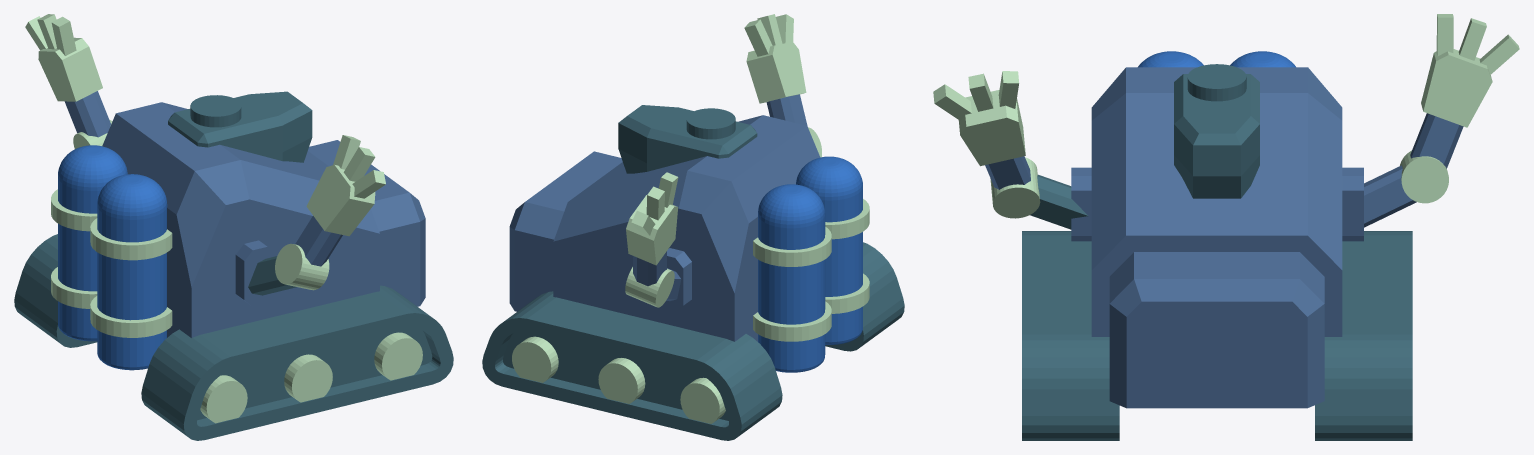
The model's file is worker.glb.
3 views of the same model, side by side, from view 1: azimuth 30°, elevation 25°; view 2: azimuth 150°, elevation 25°; view 3: azimuth 270°, elevation 25° (orthographic). The views are drawn at different scales.
Visible parts, largest first — view 1: Cube; view 2: Cube; view 3: Cube.
Boxes of the visible parts, bbox=[...] form: Cube: bbox=[14, 14, 453, 440]; Cube: bbox=[482, 14, 904, 440]; Cube: bbox=[933, 14, 1519, 440].
Bounding box in the file's own units: 3.29 × 2.8 × 4.68.
1 material, 1 textured.
